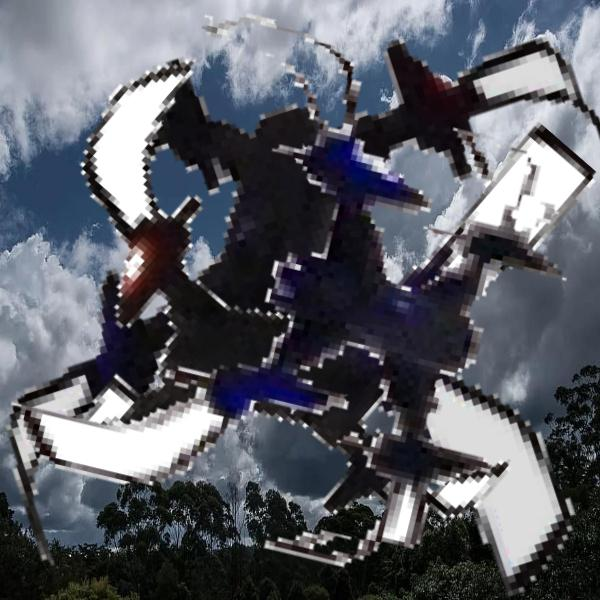drone: (23, 6, 594, 577), (21, 11, 589, 579)
